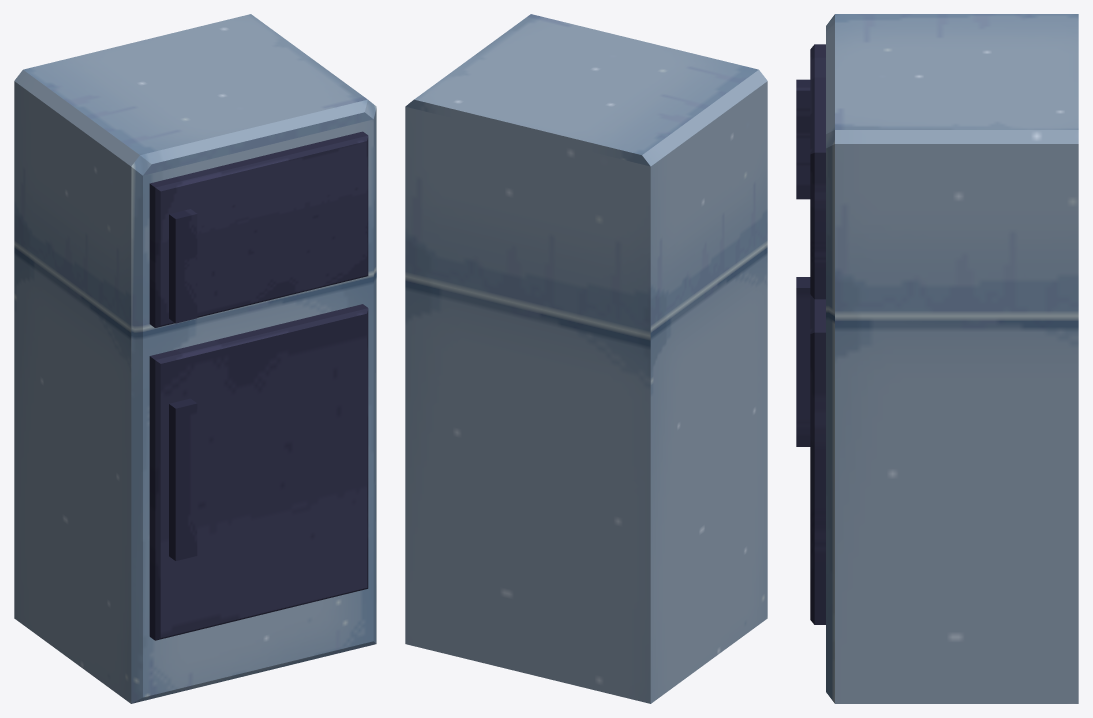
Rendered from Geladeira.fbx.
The picture shows the model from 3 angles, left to right: view 1: azimuth 30°, elevation 25°; view 2: azimuth 150°, elevation 25°; view 3: azimuth 270°, elevation 25°; orthographic projection. The views are drawn at different scales.
Parts seen in each view (by area): view 1: Geladeira; view 2: Geladeira; view 3: Geladeira.
Boxes of the visible parts, x1=… form: Geladeira: x1=14, y1=14, x2=376, y2=703; Geladeira: x1=405, y1=14, x2=767, y2=703; Geladeira: x1=796, y1=14, x2=1078, y2=703.
Bounding box in the file's own units: 103 × 98.06 × 218.
